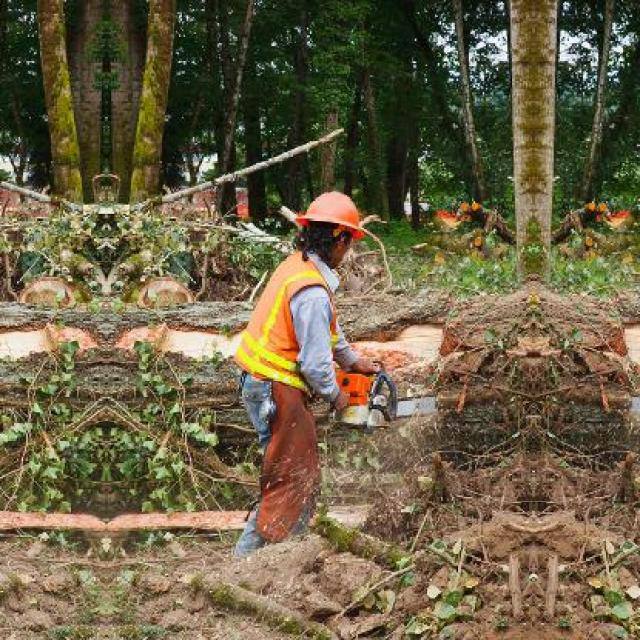helmet: (292, 185, 376, 277)
